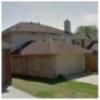chimneys: (62, 18, 72, 35)
